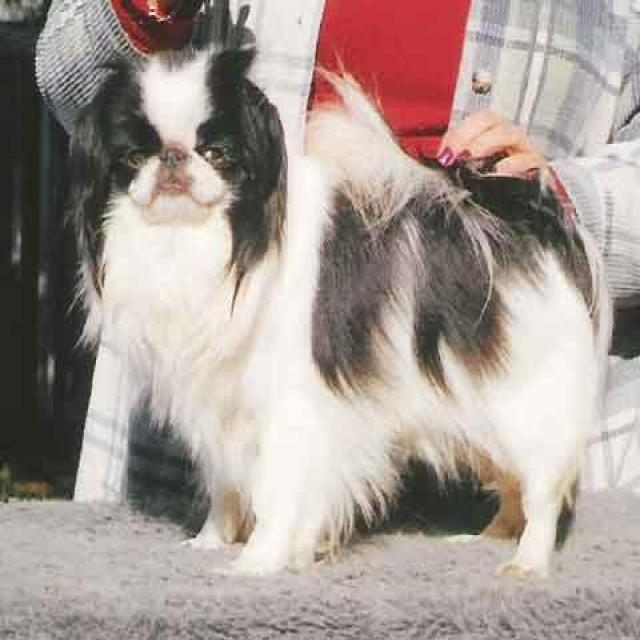husky: (59, 38, 613, 578)
